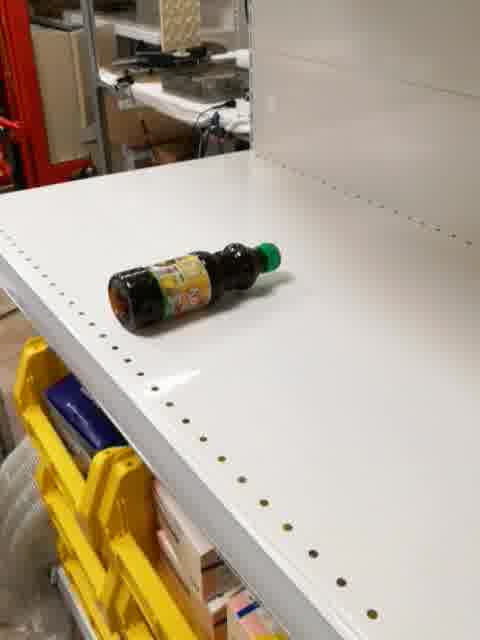cookingoil: (106, 238, 284, 334)
